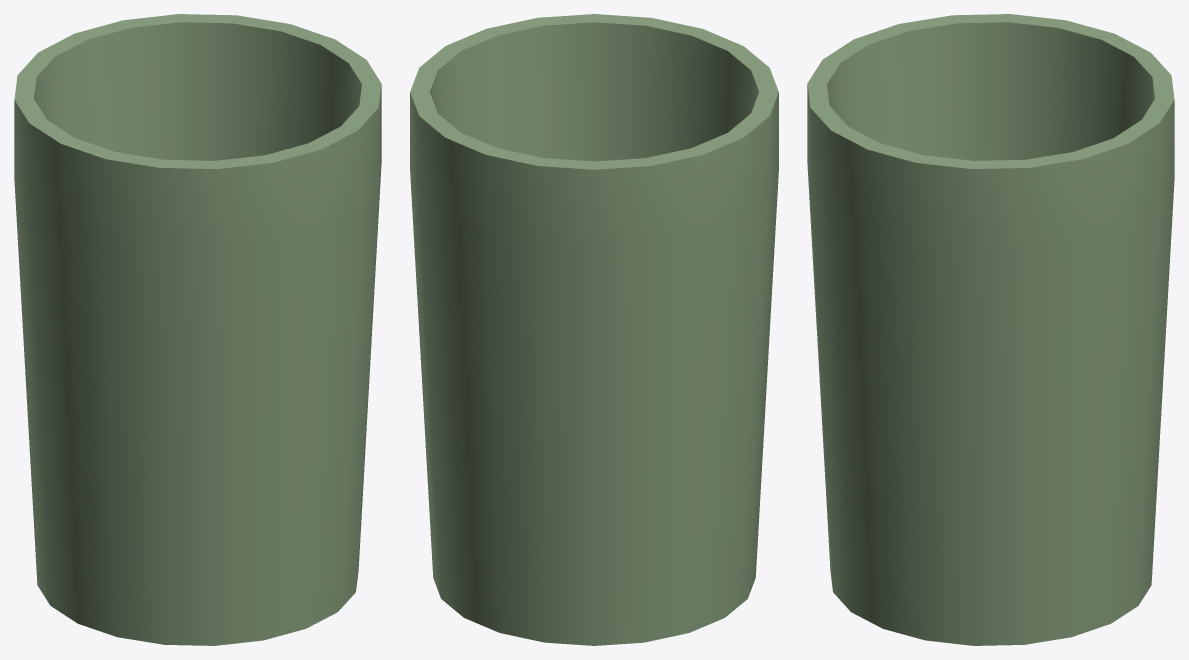
File: Cup.fbx
The picture shows the model from 3 angles, left to right: view 1: azimuth 30°, elevation 25°; view 2: azimuth 150°, elevation 25°; view 3: azimuth 270°, elevation 25°; orthographic projection.
Visible parts, largest first — view 1: Cup; view 2: Cup; view 3: Cup.
Part boxes in pixels (left/top/right/bottom): Cup: left=14, top=14, right=381, bottom=645; Cup: left=410, top=14, right=778, bottom=645; Cup: left=807, top=14, right=1174, bottom=645.
Bounding box in the file's own units: 7.52 × 10.99 × 7.52.
